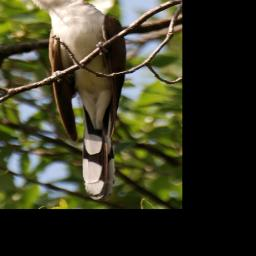Cuckoo: (13, 0, 129, 202)
